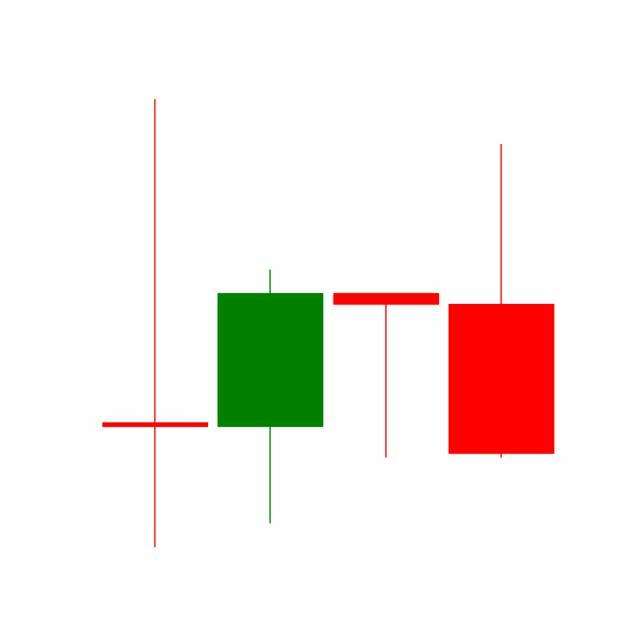Dragonfly Doji: (329, 292, 445, 461)
